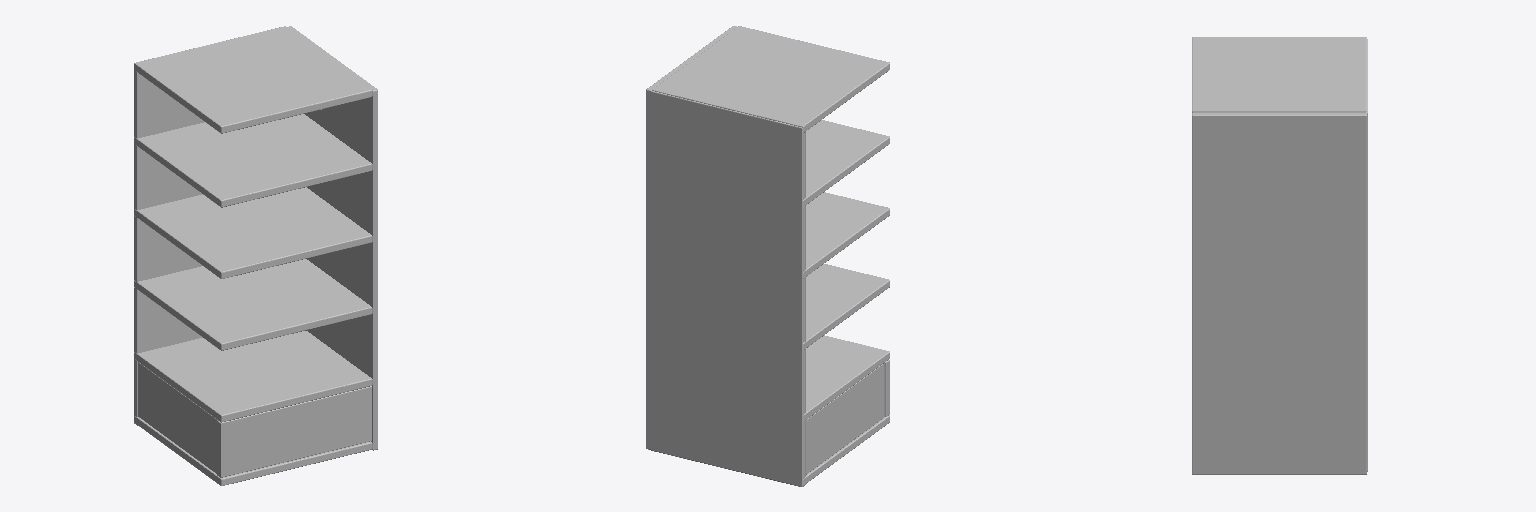
Rendered from shelf.obj.
The picture shows the model from 3 angles: view 1: azimuth 30°, elevation 25°; view 2: azimuth 150°, elevation 25°; view 3: azimuth 270°, elevation 25°; orthographic projection.
Parts seen in each view (by area): view 1: ChamferBox01, ChamferBox02, ChamferBox05, ChamferBox03, ChamferBox04, ChamferBox06, ChamferBox08, ChamferBox09, ChamferBox10, ChamferBox07; view 2: ChamferBox08, ChamferBox01, ChamferBox10, ChamferBox02, ChamferBox04, ChamferBox03, ChamferBox05, ChamferBox06, ChamferBox07; view 3: ChamferBox06, ChamferBox01.
Part boxes in pixels (bbox=[...]): ChamferBox01: bbox=[134, 26, 372, 133]; ChamferBox02: bbox=[134, 114, 372, 207]; ChamferBox05: bbox=[134, 331, 372, 422]; ChamferBox03: bbox=[134, 187, 372, 278]; ChamferBox04: bbox=[134, 259, 372, 350]; ChamferBox06: bbox=[287, 26, 377, 450]; ChamferBox08: bbox=[134, 70, 203, 425]; ChamferBox09: bbox=[217, 386, 371, 477]; ChamferBox10: bbox=[138, 362, 216, 473]; ChamferBox07: bbox=[134, 416, 372, 485]; ChamferBox08: bbox=[651, 91, 805, 486]; ChamferBox01: bbox=[652, 26, 889, 132]; ChamferBox10: bbox=[806, 363, 884, 474]; ChamferBox02: bbox=[803, 120, 889, 206]; ChamferBox04: bbox=[803, 264, 889, 349]; ChamferBox03: bbox=[803, 192, 889, 278]; ChamferBox05: bbox=[803, 335, 889, 421]; ChamferBox06: bbox=[646, 26, 736, 449]; ChamferBox07: bbox=[803, 415, 889, 485]; ChamferBox06: bbox=[1192, 112, 1366, 474]; ChamferBox01: bbox=[1192, 37, 1366, 112].
Size of the model in its own units: 27.94 by 61.2 by 27.03.